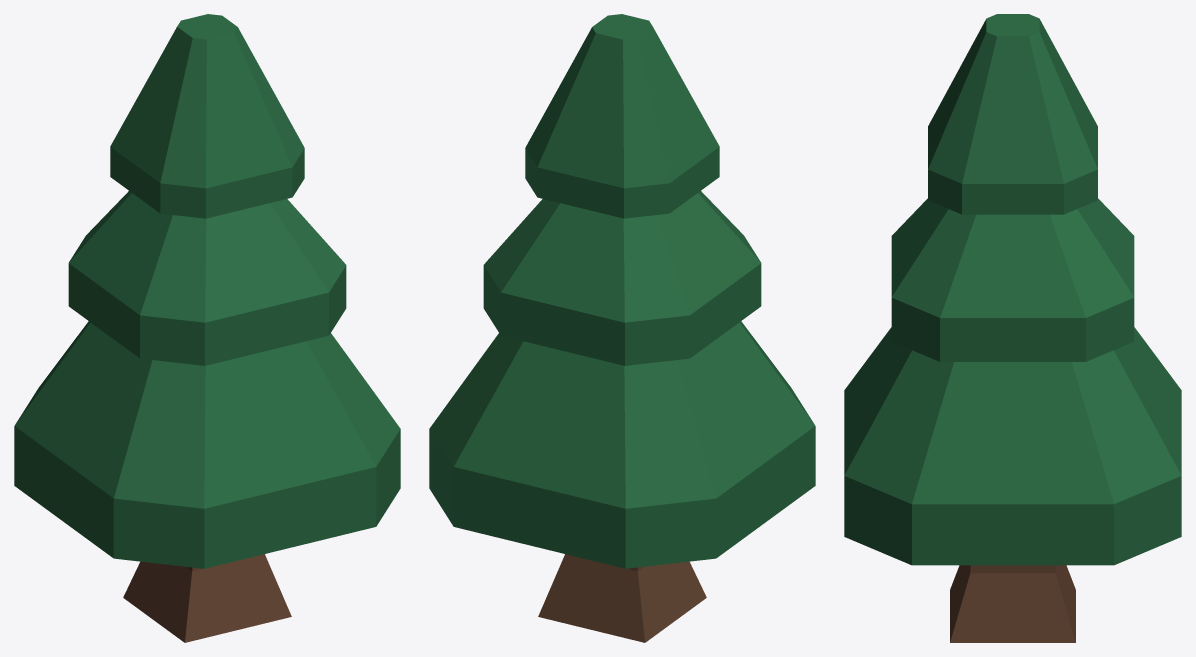
File: tree_pineSmallA.glb
3 views of the same model, side by side, from view 1: azimuth 30°, elevation 25°; view 2: azimuth 150°, elevation 25°; view 3: azimuth 270°, elevation 25° (orthographic).
Visible parts, largest first — view 1: tree_pineSmallA; view 2: tree_pineSmallA; view 3: tree_pineSmallA.
Boxes of the visible parts, left/top/right/bottom form: tree_pineSmallA: left=14, top=14, right=400, bottom=642; tree_pineSmallA: left=429, top=14, right=815, bottom=642; tree_pineSmallA: left=844, top=14, right=1181, bottom=642.
Bounding box in the file's own units: 0.5 × 0.9672 × 0.5.
